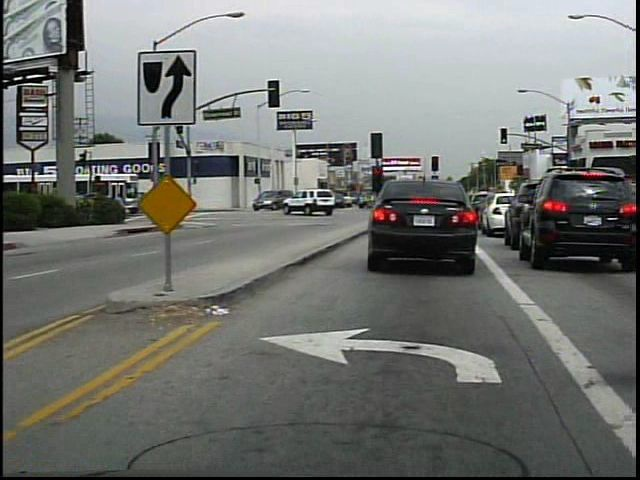person: (113, 188, 133, 224)
